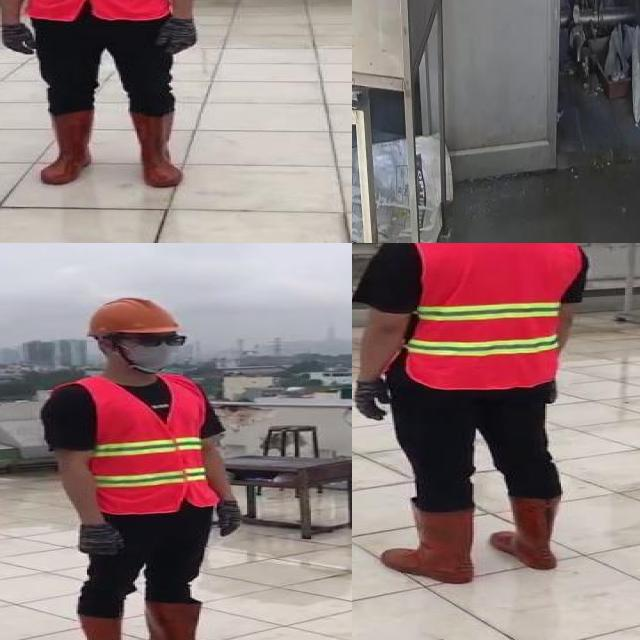boots: (378, 501, 476, 585), (488, 494, 563, 569), (144, 597, 242, 640), (38, 112, 96, 183), (132, 111, 185, 187), (62, 612, 155, 640)
face_mask: (113, 330, 187, 370)
glasses: (125, 330, 191, 350)
hand_glove: (353, 376, 401, 421), (72, 521, 123, 559), (208, 503, 256, 539), (158, 17, 198, 55), (0, 22, 38, 56)
head_helmet: (84, 292, 182, 338)
person: (352, 243, 598, 591), (35, 289, 236, 640), (0, 0, 212, 192)
vest: (390, 243, 587, 388), (54, 371, 220, 515)
